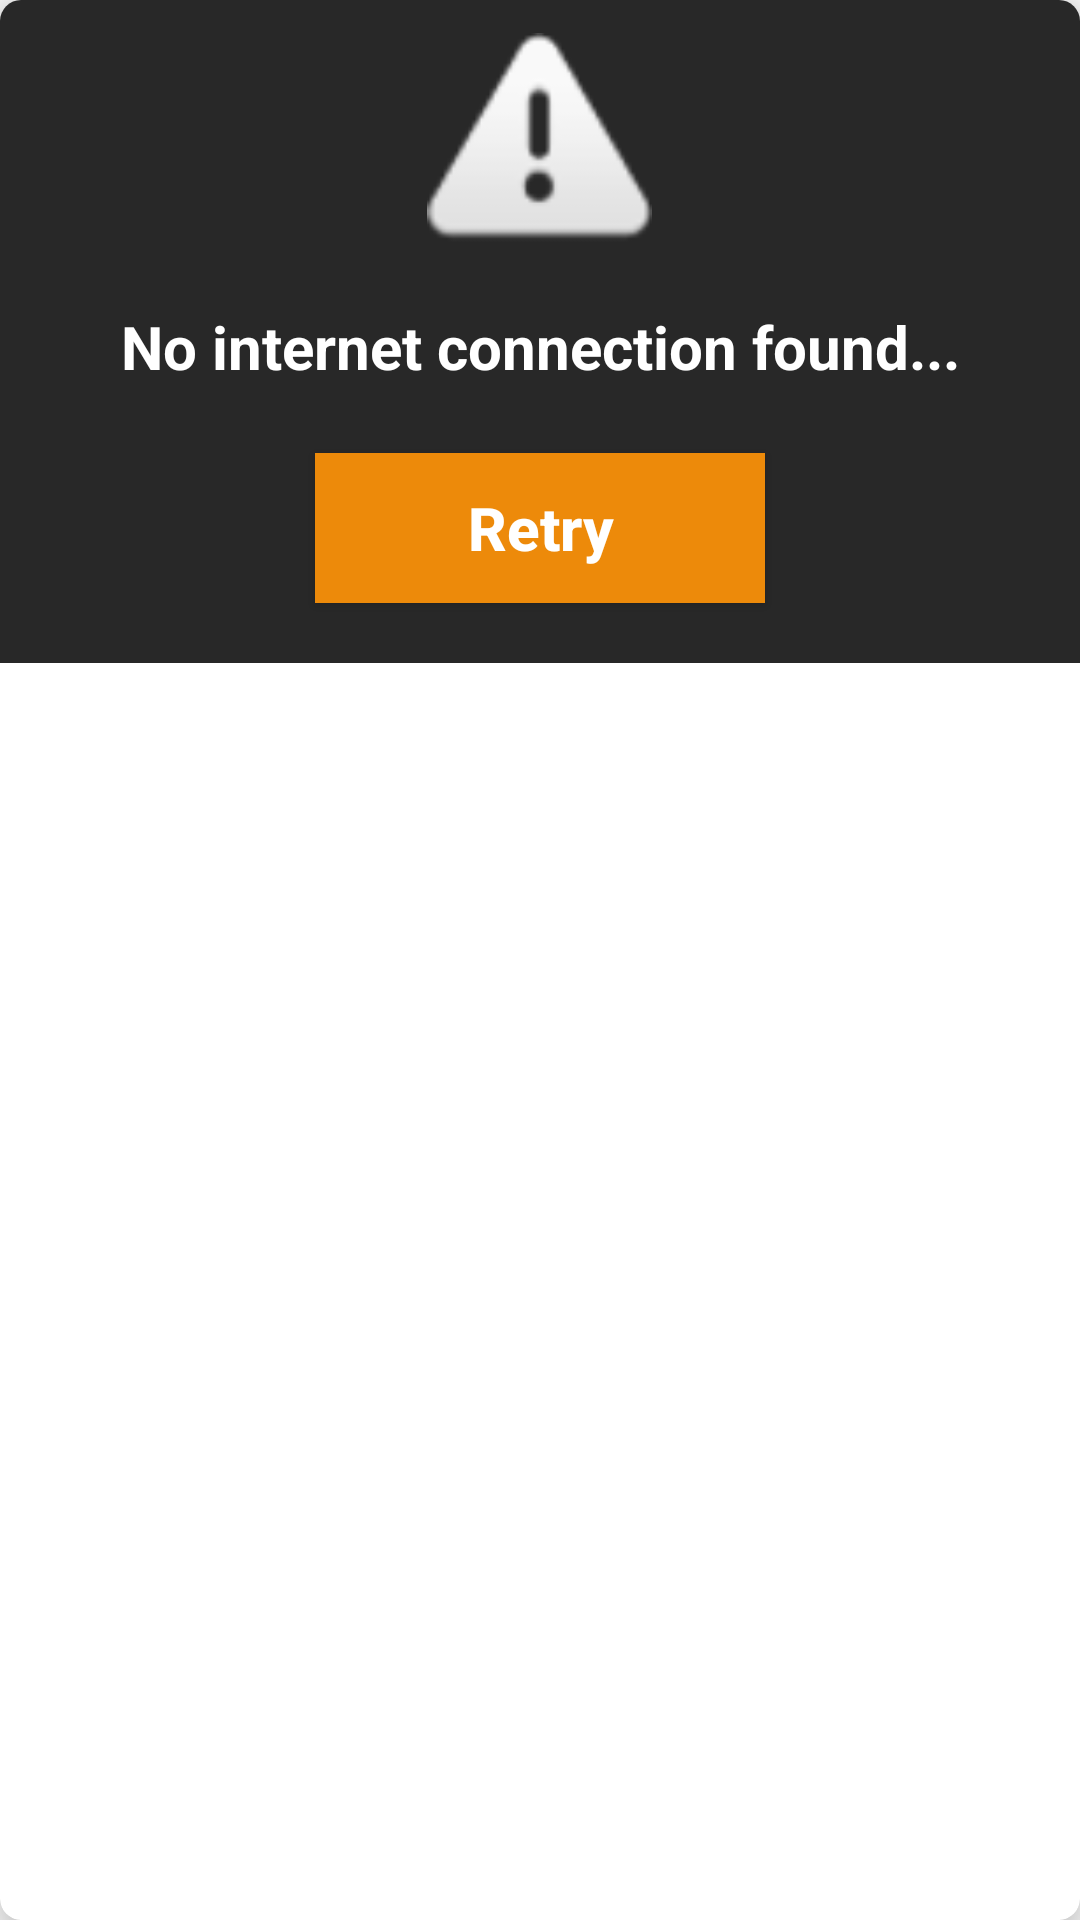

Locate icon controls on the screen. Image size 1080*1920, boxes as (x1, y1, x2, y2).
alert: (427, 33, 652, 238)
